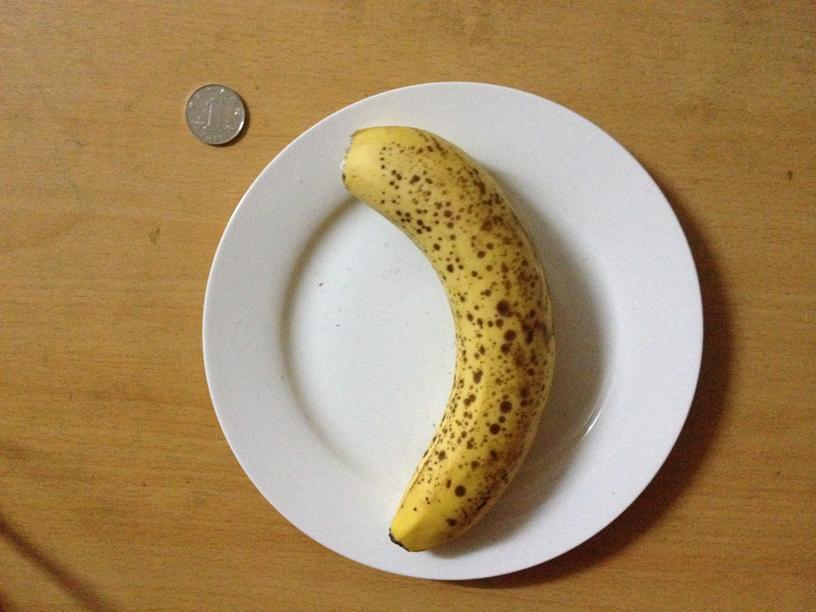banana: (332, 126, 557, 551)
coin: (183, 82, 247, 146)
